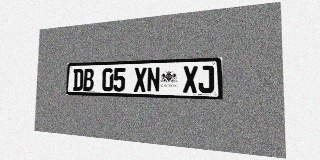0: (102, 68, 113, 91)
5: (113, 68, 125, 92)
B: (83, 68, 94, 91)
D: (73, 69, 83, 91)
J: (198, 65, 214, 93)
N: (147, 67, 160, 92)
X: (183, 66, 198, 93), (134, 67, 146, 92)
